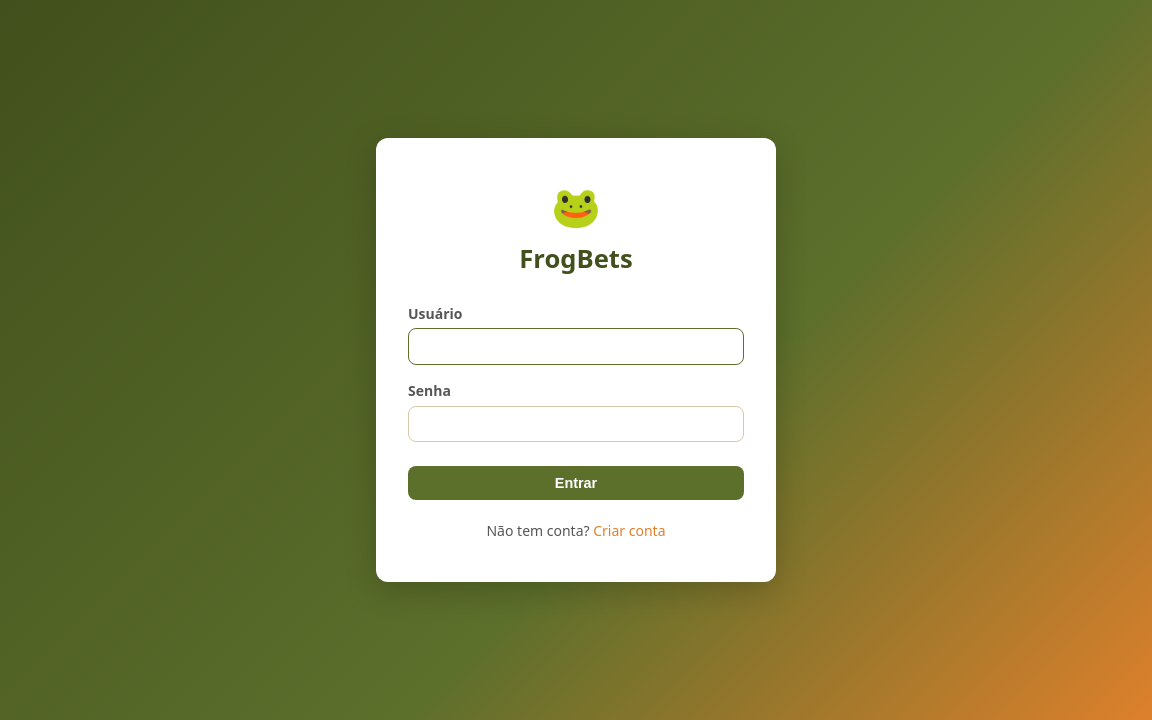
Test: Autenticação › Login › exibe erro com credenciais inválidas
The width and height of the screenshot is (1152, 720).
Type "wronguser" into the field with id "username" at (576, 347), box [408, 328, 744, 365]
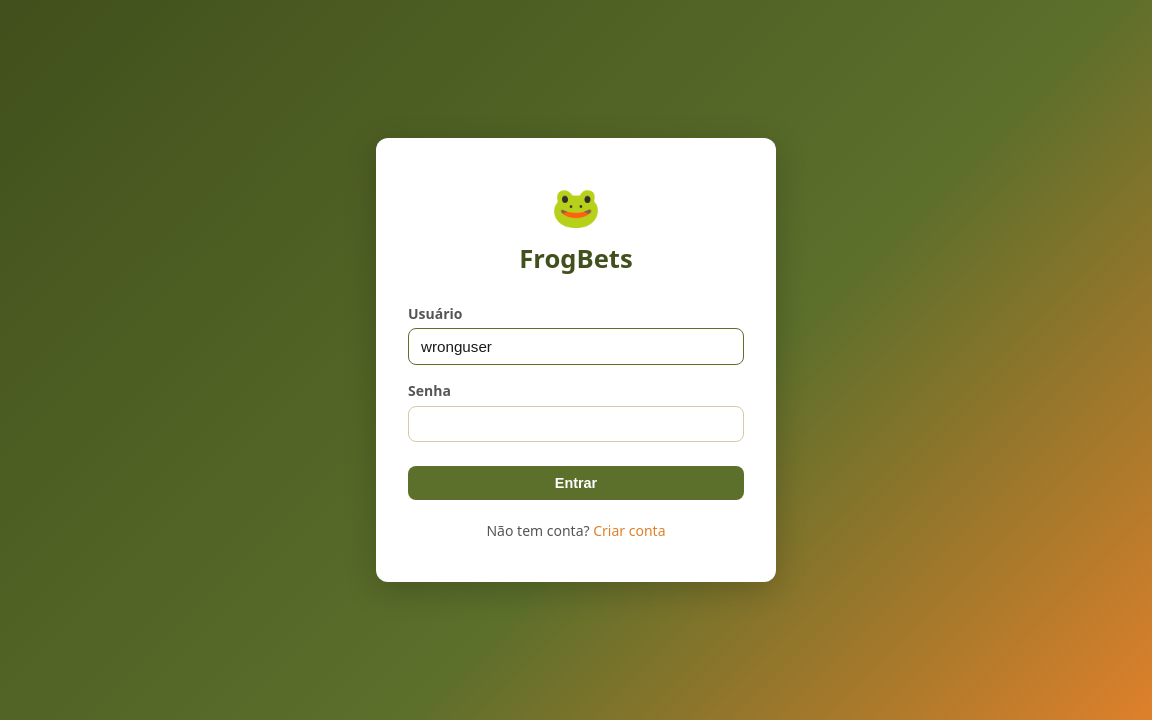
Type "wrongpass" into the password field labelled "Senha" at (576, 425), box [408, 406, 744, 443]
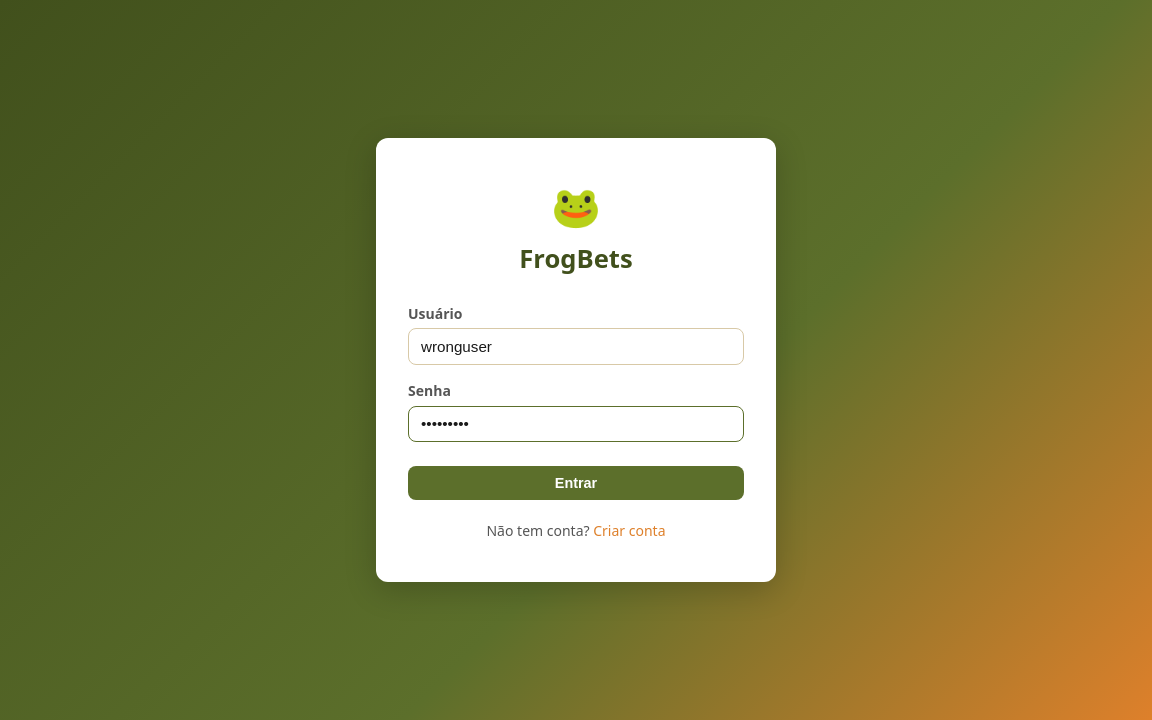
Click the submit button at (576, 483), box [408, 466, 744, 500]
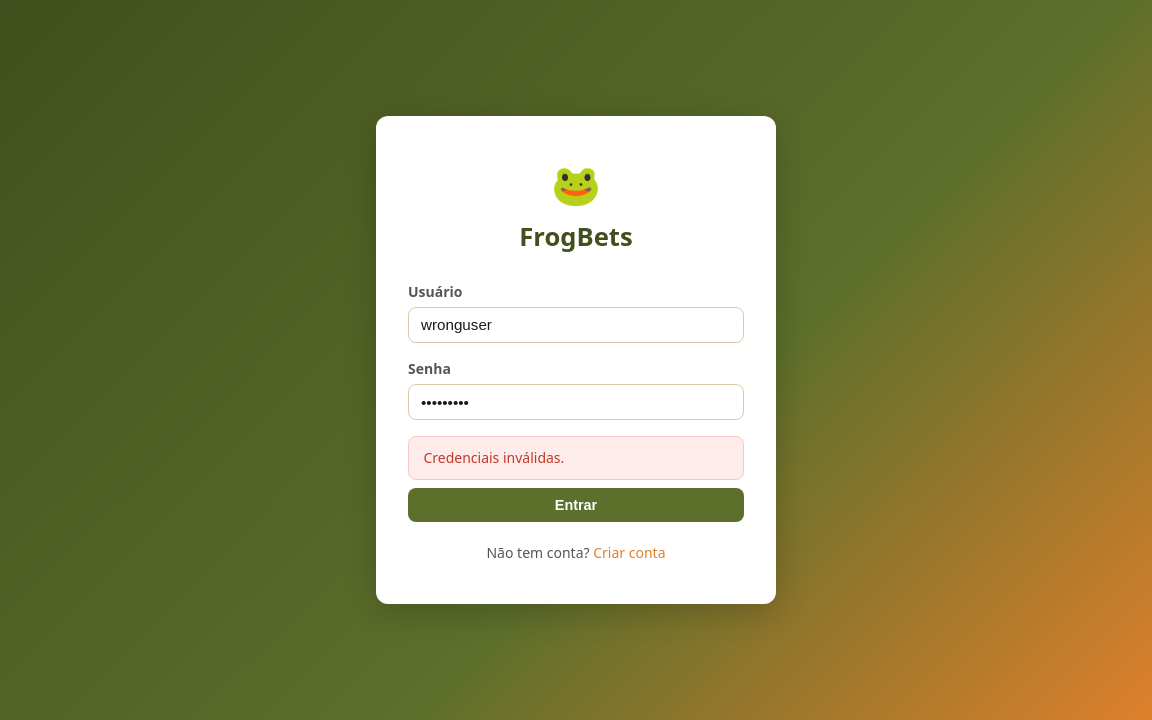
Expected: the message "Credenciais inválidas." is shown, [408, 436, 744, 480]
